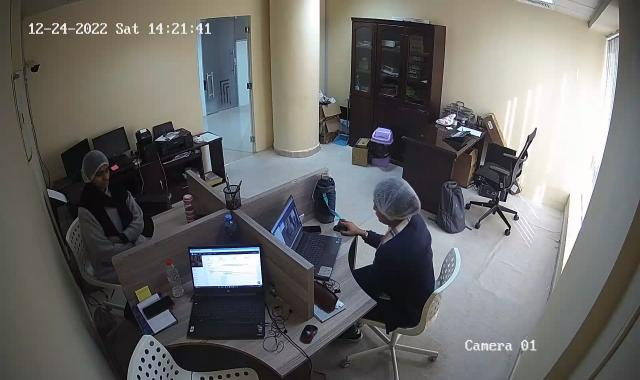hairnet: (373, 175, 421, 226), (79, 148, 112, 191)
